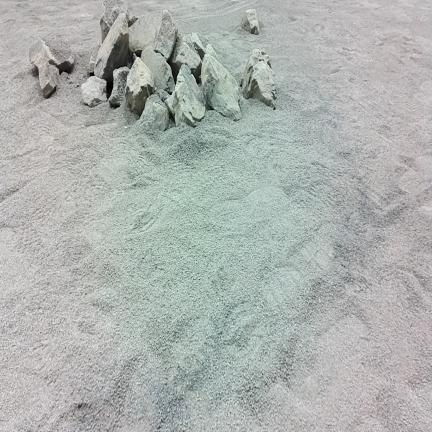Rock: (202, 51, 241, 120), (95, 14, 128, 81), (242, 49, 276, 108), (173, 65, 205, 126), (30, 38, 59, 98), (126, 58, 154, 116), (141, 47, 175, 93), (30, 37, 74, 72), (101, 0, 138, 41), (170, 38, 201, 82), (154, 10, 177, 60), (129, 14, 157, 55), (101, 0, 128, 42), (241, 49, 271, 86), (46, 36, 74, 73), (141, 95, 169, 130), (30, 38, 56, 69), (109, 67, 129, 107), (81, 76, 106, 107), (38, 62, 59, 98), (184, 33, 205, 59), (241, 9, 259, 34), (88, 46, 100, 76), (165, 94, 174, 119), (155, 89, 170, 102), (206, 44, 218, 60), (129, 12, 139, 27), (31, 66, 38, 77)
